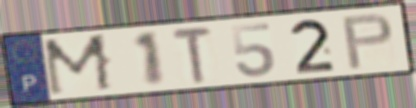1: (132, 29, 167, 89)
2: (289, 17, 337, 75)
5: (229, 21, 278, 79)
M: (40, 32, 117, 99)
P: (339, 11, 397, 72)
T: (169, 25, 216, 85)
